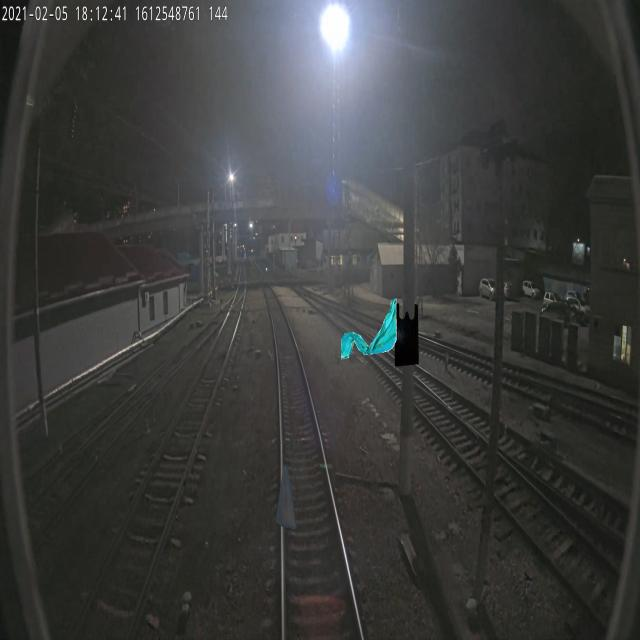floating object: (341, 297, 396, 361)
plastic bag: (394, 303, 419, 367), (275, 465, 297, 529)
